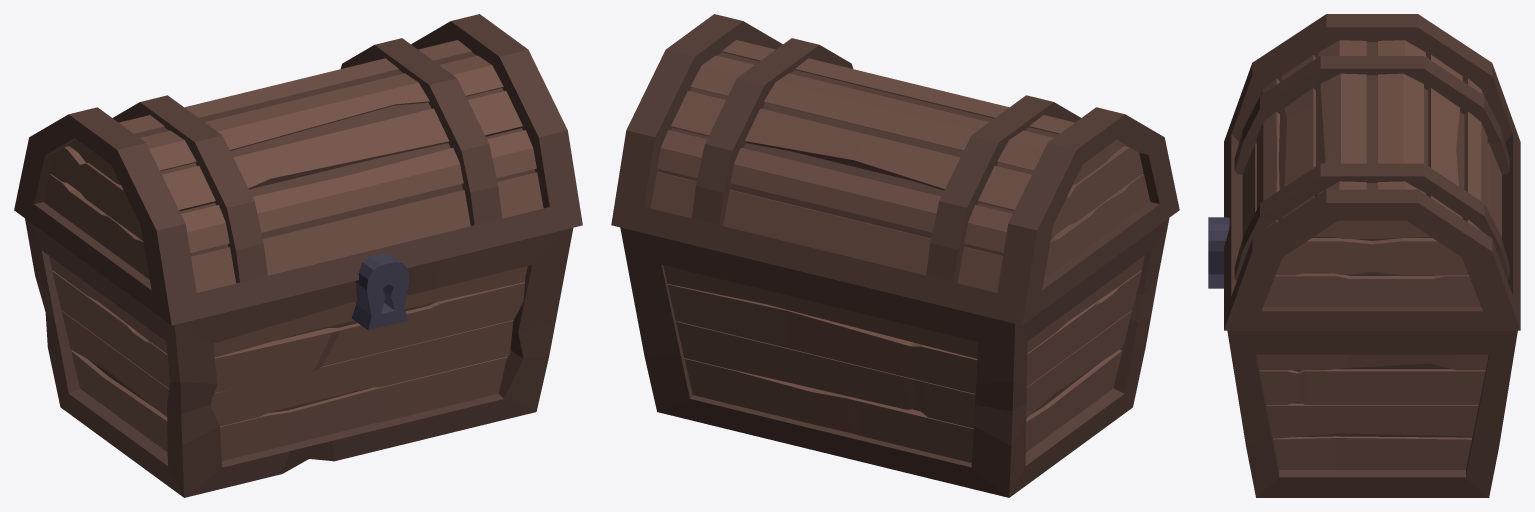
File: Chest.glb
3 renders of one model, left to right at view 1: azimuth 30°, elevation 25°; view 2: azimuth 150°, elevation 25°; view 3: azimuth 270°, elevation 25°, orthographic. The views are drawn at different scales.
Parts seen in each view (by area): view 1: Chest; view 2: Chest; view 3: Chest.
Boxes of the visible parts, x1=… form: Chest: x1=14, y1=14, x2=582, y2=497; Chest: x1=611, y1=14, x2=1179, y2=497; Chest: x1=1208, y1=14, x2=1520, y2=497.
Bounding box in the file's own units: 0.4953 × 0.3774 × 0.346.
